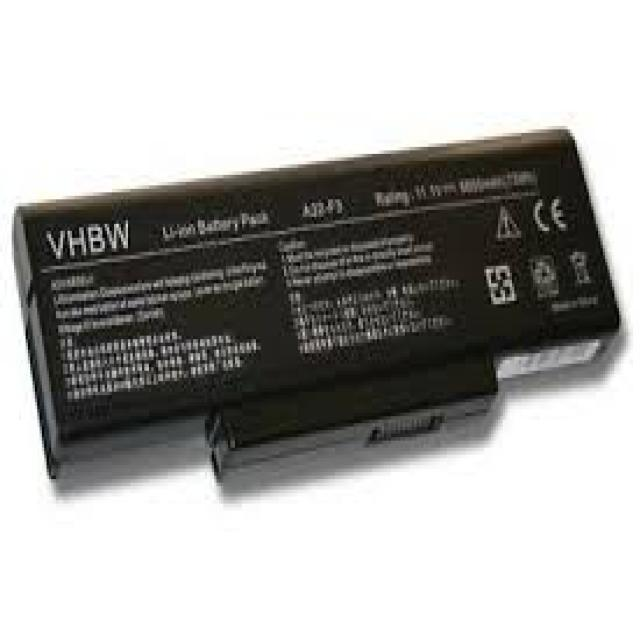Battery: (9, 88, 640, 518)
